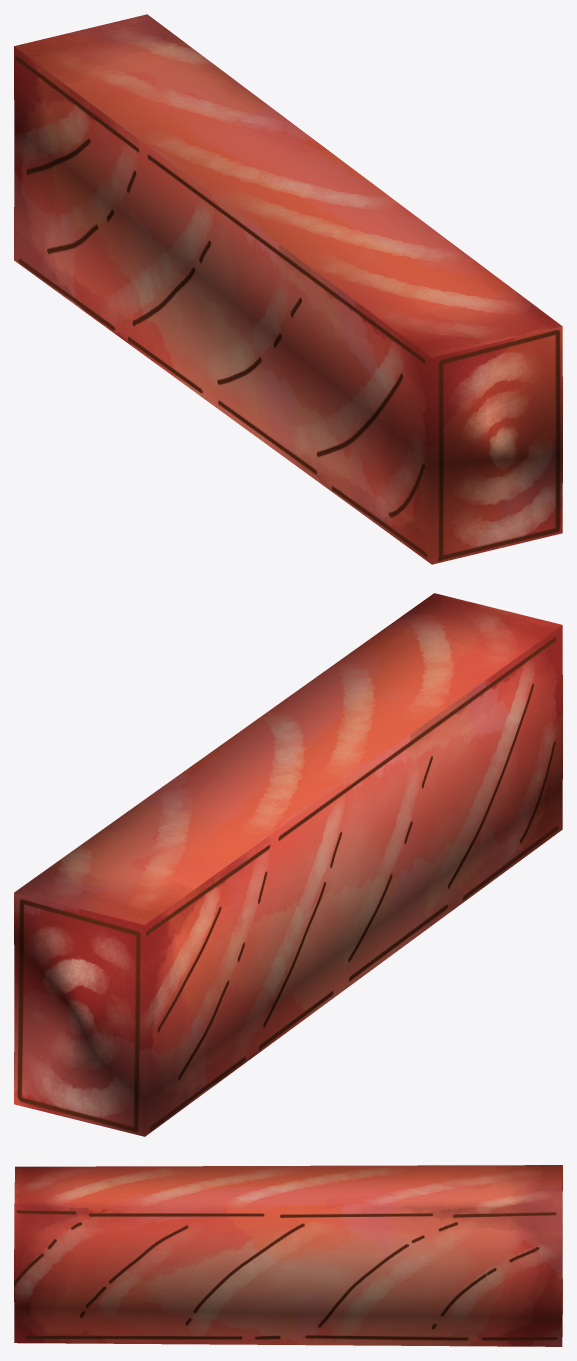
The model's file is tuna thick strip.fbx.
3 renders of one model, top to bottom at view 1: azimuth 30°, elevation 25°; view 2: azimuth 150°, elevation 25°; view 3: azimuth 270°, elevation 25°, orthographic. The views are drawn at different scales.
Parts seen in each view (by area): view 1: tuna_thick_strip; view 2: tuna_thick_strip; view 3: tuna_thick_strip.
Boxes of the visible parts, bbox=[...] form: tuna_thick_strip: bbox=[14, 14, 562, 564]; tuna_thick_strip: bbox=[14, 593, 562, 1136]; tuna_thick_strip: bbox=[14, 1165, 562, 1346].
Bounding box in the file's own units: 2.29 × 3.46 × 12.34.
